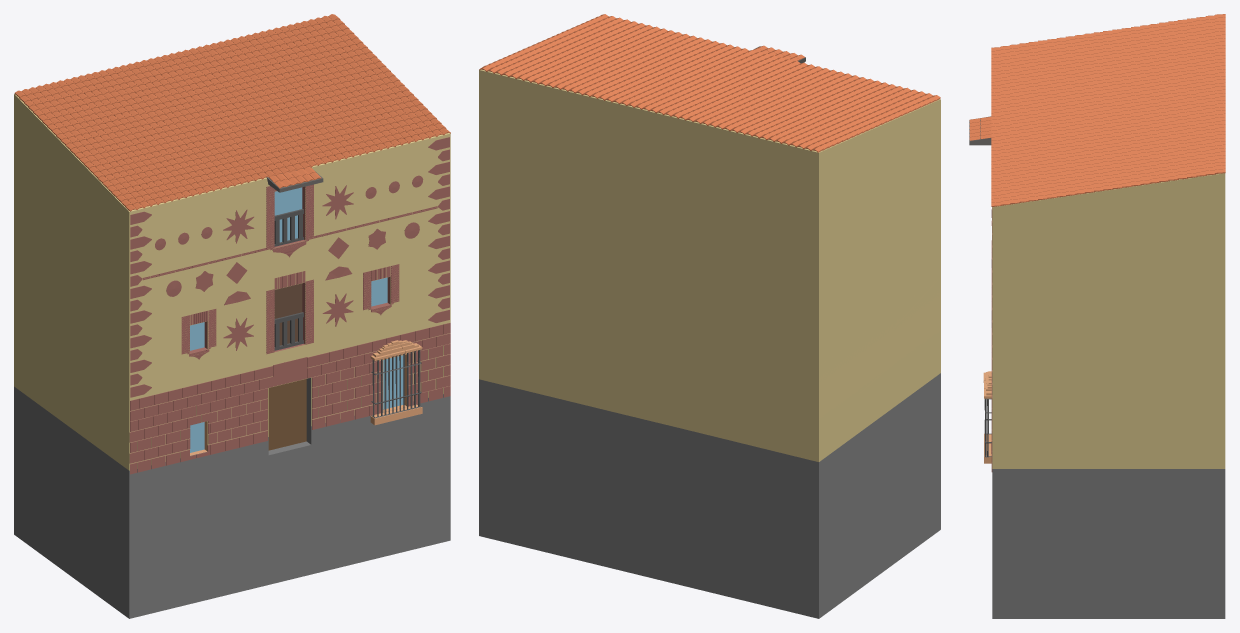
File: 25_Casa_Lola_Javier_Martinez.fbx
The picture shows the model from 3 angles, left to right: view 1: azimuth 30°, elevation 25°; view 2: azimuth 150°, elevation 25°; view 3: azimuth 270°, elevation 25°; orthographic projection. The views are drawn at different scales.
Visible parts, largest first — view 1: Cylinder.004, Cylinder.006, Cylinder.005; view 2: Cylinder.004, Cylinder.006; view 3: Cylinder.004, Cylinder.006, Cylinder.005.
Boxes of the visible parts, box(x1,y1,x2,y2) form: Cylinder.004: box(14, 94, 450, 618); Cylinder.006: box(14, 14, 450, 211); Cylinder.005: box(269, 167, 321, 188); Cylinder.004: box(479, 46, 940, 618); Cylinder.006: box(479, 14, 940, 152); Cylinder.004: box(969, 116, 1225, 618); Cylinder.006: box(991, 14, 1225, 206); Cylinder.005: box(969, 116, 991, 140).
Bounding box in the file's own units: 1168 × 1539 × 798.
